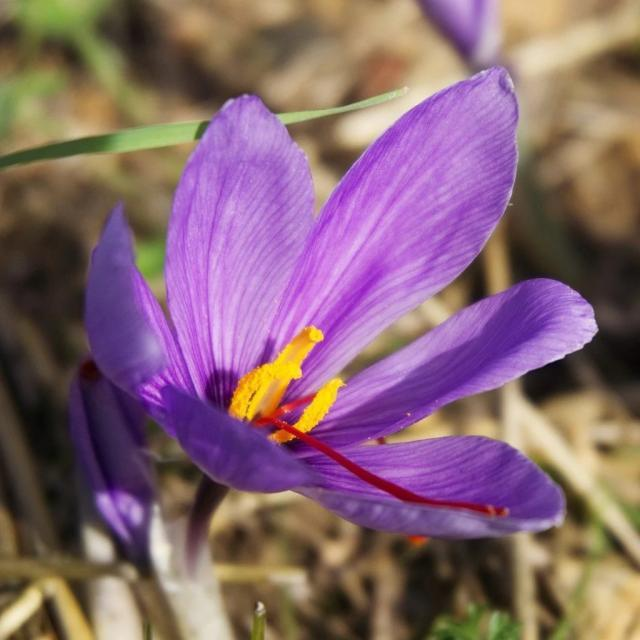Flower: (117, 76, 565, 535)
stigma: (295, 435, 510, 525)
